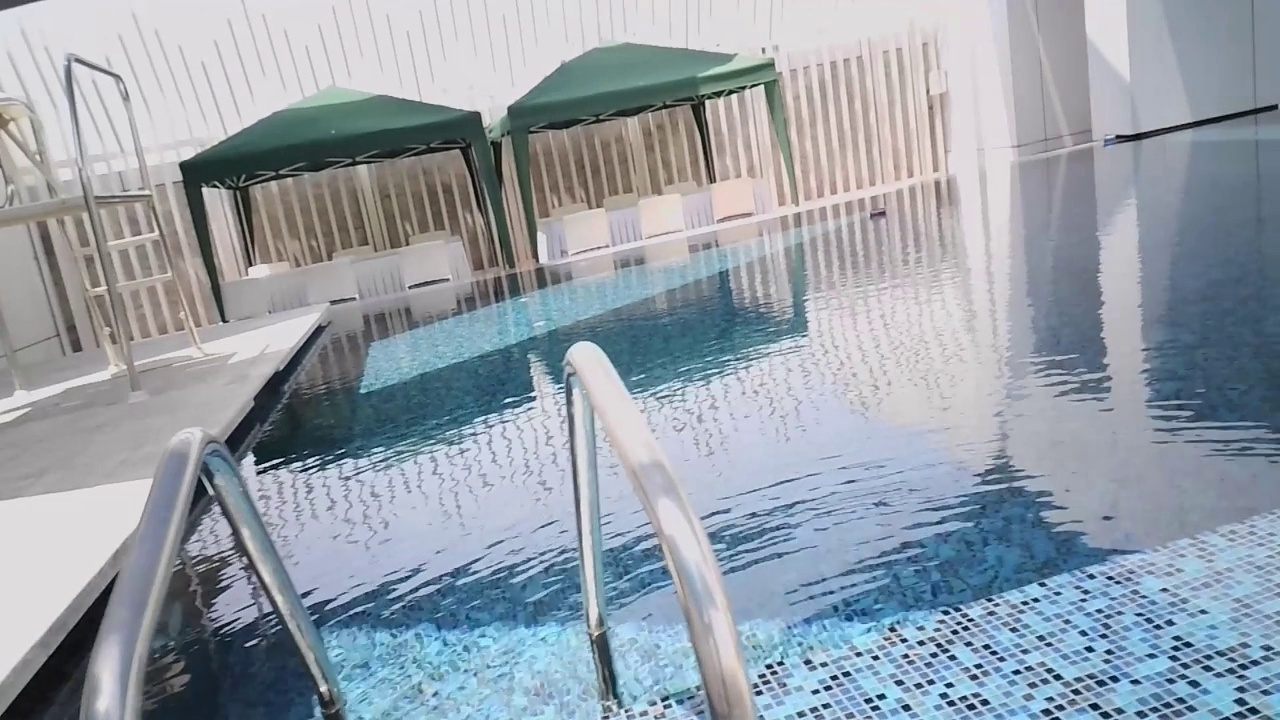debris: (1098, 131, 1118, 150), (865, 206, 890, 221)
